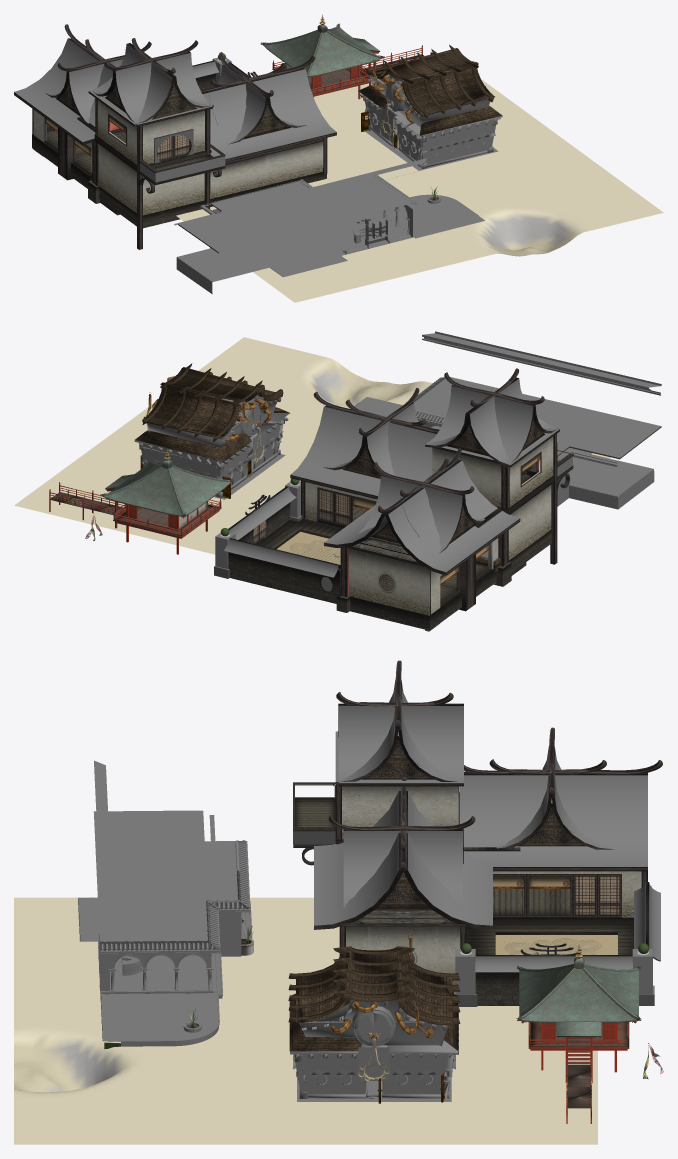
3 renders of one model, top to bottom at view 1: azimuth 30°, elevation 25°; view 2: azimuth 150°, elevation 25°; view 3: azimuth 270°, elevation 25°, orthographic. The views are drawn at different scales.
Visible parts, largest first — view 1: Terrain 3,1, Asian House 2, Roma Left patio (×3), Japan Restaurant, 15x15x15 (×2), Culprit Temple Red (×2), Roma Left back, 15x.5x.5 (×2), Roma Left back roof, cite pirate auberge /PIRATE PUB!!, 15x15x.5; view 2: Asian House 2, Terrain 3,1, 15x15x15 (×3), Japan Restaurant, Roma Left patio (×2), Culprit Temple Red (×3), Roma Left back roof, Zen Wall (×2), 15x15x.5 (×3), 15x15x.01, 15x.5x.5, d;<-18.05883, -0.59138, -6.68697>;<-0.00000, -0.00030, 0.000 (+2 smaller); view 3: Terrain 3,1, Asian House 2, 15x15x15 (×3), Roma Left patio (×6), Japan Restaurant, Culprit Temple Red (×3), Roma Left back, 15x15x.5 (×2), 15x15x.01, Roma Left back roof, d;<-6.11282, -8.45187, -6.59462>;<-0.00000, -0.00030, -1.570, d;<-6.11282, -13.61689, -6.59462>;<-0.00000, -0.00030, -1.57 (+1 smaller).
Part boxes in pixels (x1,y1,x2,y2): Terrain 3,1: (176,79,663,302); Asian House 2: (32,24,327,228); Roma Left patio (×3): (176,176,415,294); Japan Restaurant: (358,44,502,168); 15x15x15 (×2): (14,38,336,162); Culprit Temple Red (×2): (263,24,382,76); Roma Left back: (380,194,484,238); 15x.5x.5 (×2): (137,109,210,249); Roma Left back roof: (219,158,426,218); cite pirate auberge /PIRATE PUB!!: (365,130,498,170); 15x15x.5: (33,110,92,170); Asian House 2: (214,368,573,630); Terrain 3,1: (14,337,610,554); 15x15x15 (×3): (290,406,520,575); Japan Restaurant: (134,363,290,497); Roma Left patio (×2): (414,377,661,509); Culprit Temple Red (×3): (102,460,231,537); Roma Left back roof: (422,331,661,395); Zen Wall (×2): (228,552,340,603); 15x15x.5 (×3): (256,482,498,631); 15x15x.01: (277,532,340,564); 15x.5x.5: (550,434,557,564); d;<-18.05883, -0.59138, -6.68697>;<-0.00000, -0.00030, 0.000: (317,487,334,523); Terrain 3,1: (14,897,597,1144); Asian House 2: (293,660,662,1006); 15x15x15 (×3): (314,775,647,929); Roma Left patio (×6): (78,810,252,999); Japan Restaurant: (288,935,460,1098); Culprit Temple Red (×3): (519,957,639,1048); Roma Left back: (100,993,219,1049); 15x15x.5 (×2): (466,871,641,954); 15x15x.01: (495,935,617,954); Roma Left back roof: (94,760,112,908); d;<-6.11282, -8.45187, -6.59462>;<-0.00000, -0.00030, -1.570: (573,874,597,917); d;<-6.11282, -13.61689, -6.59462>;<-0.00000, -0.00030, -1.57: (597,874,621,917).
Size of the model in its own units: 72.59 by 28.97 by 71.24.
Materials: 194 (193 with a texture image).
